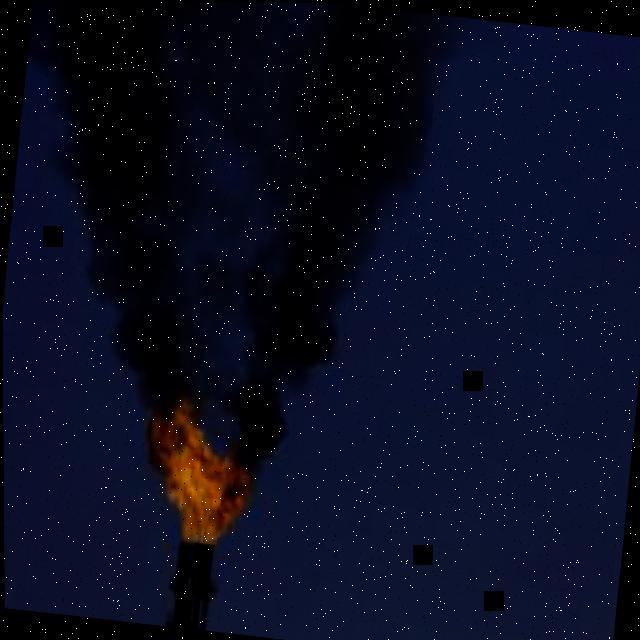fire: (144, 391, 252, 546)
smoke: (24, 0, 532, 471)
